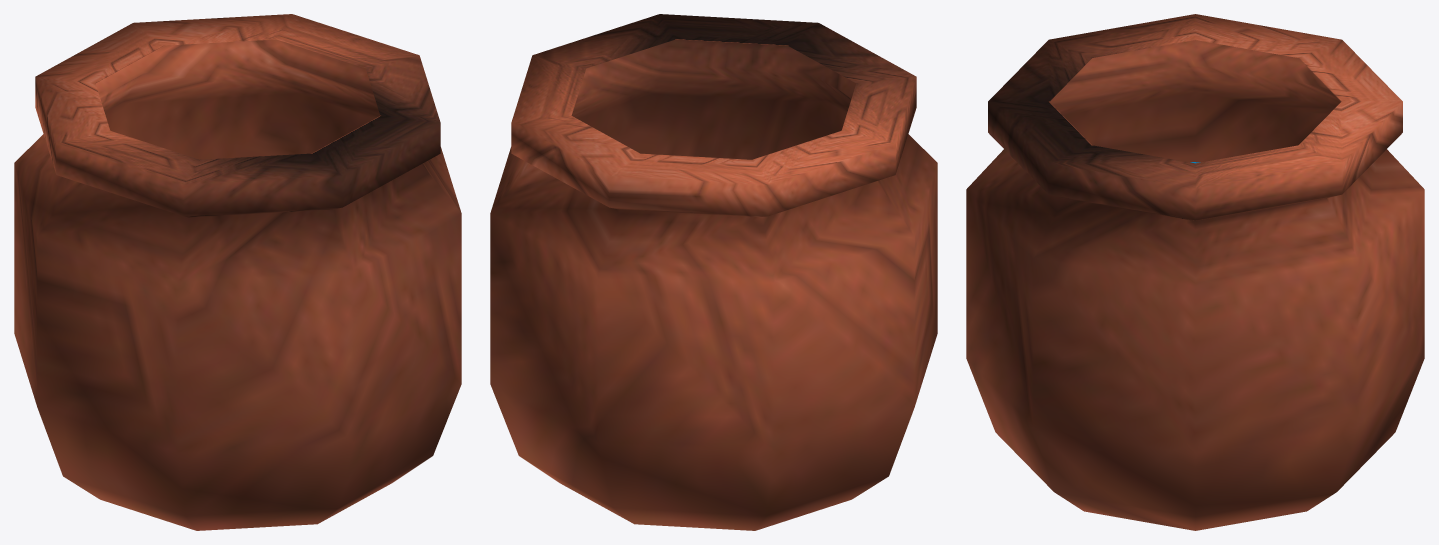
Rendered from jar.glb.
3 renders of one model, left to right at view 1: azimuth 30°, elevation 25°; view 2: azimuth 150°, elevation 25°; view 3: azimuth 270°, elevation 25°, orthographic.
Parts seen in each view (by area): view 1: Circle.001_0; view 2: Circle.001_0; view 3: Circle.001_0.
Boxes of the visible parts, x1=… form: Circle.001_0: x1=14, y1=14, x2=461, y2=530; Circle.001_0: x1=490, y1=14, x2=937, y2=530; Circle.001_0: x1=966, y1=14, x2=1424, y2=530.
Bounding box in the file's own units: 0.662 × 0.5778 × 0.662.
Materials: 2 (1 with a texture image).
